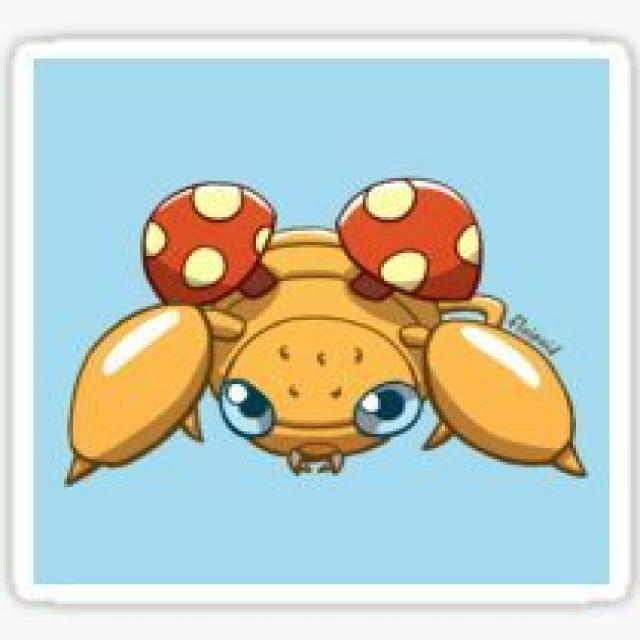Paras: (65, 172, 570, 502)
